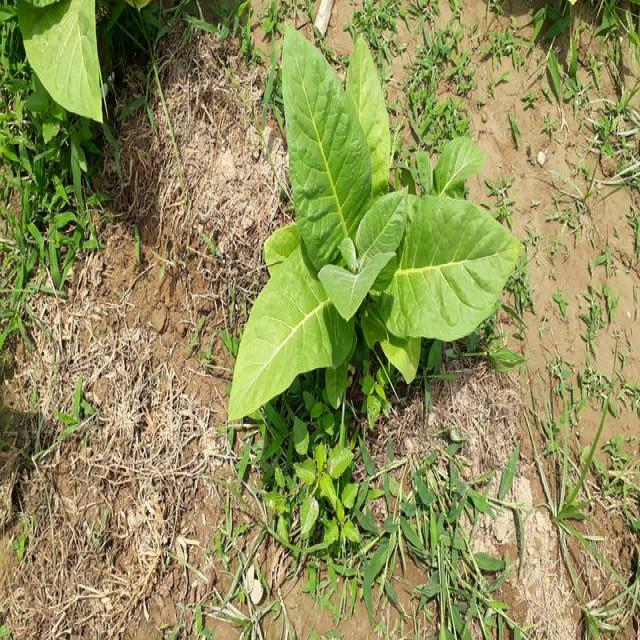crop: (230, 18, 522, 424)
